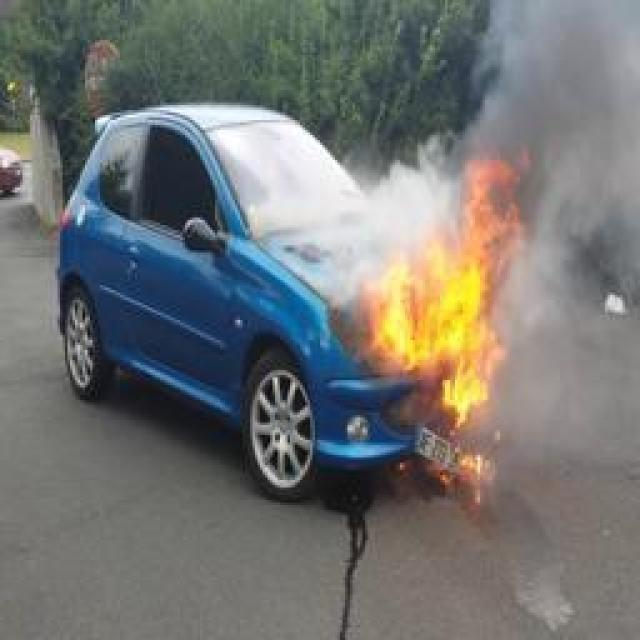Fire: (368, 160, 522, 428)
